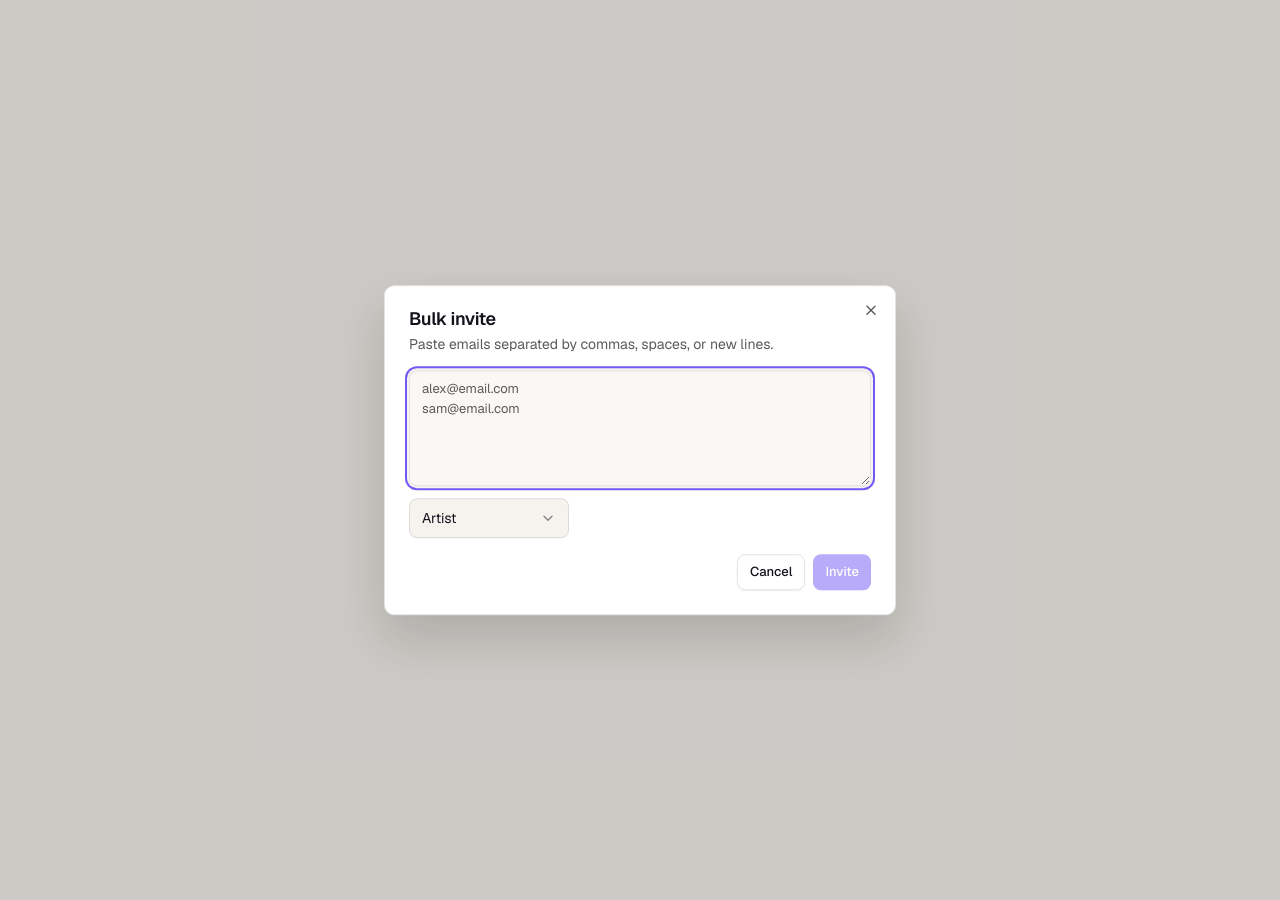
BulkInviteDialog › classifies pasted addresses as member, pending, invalid, or sendable
The width and height of the screenshot is (1280, 900).
Type "bob@x.com, kim@x.com, new@x.com, nope" into the text box at (640,428), box top-left (409, 370), bottom-right (871, 486)
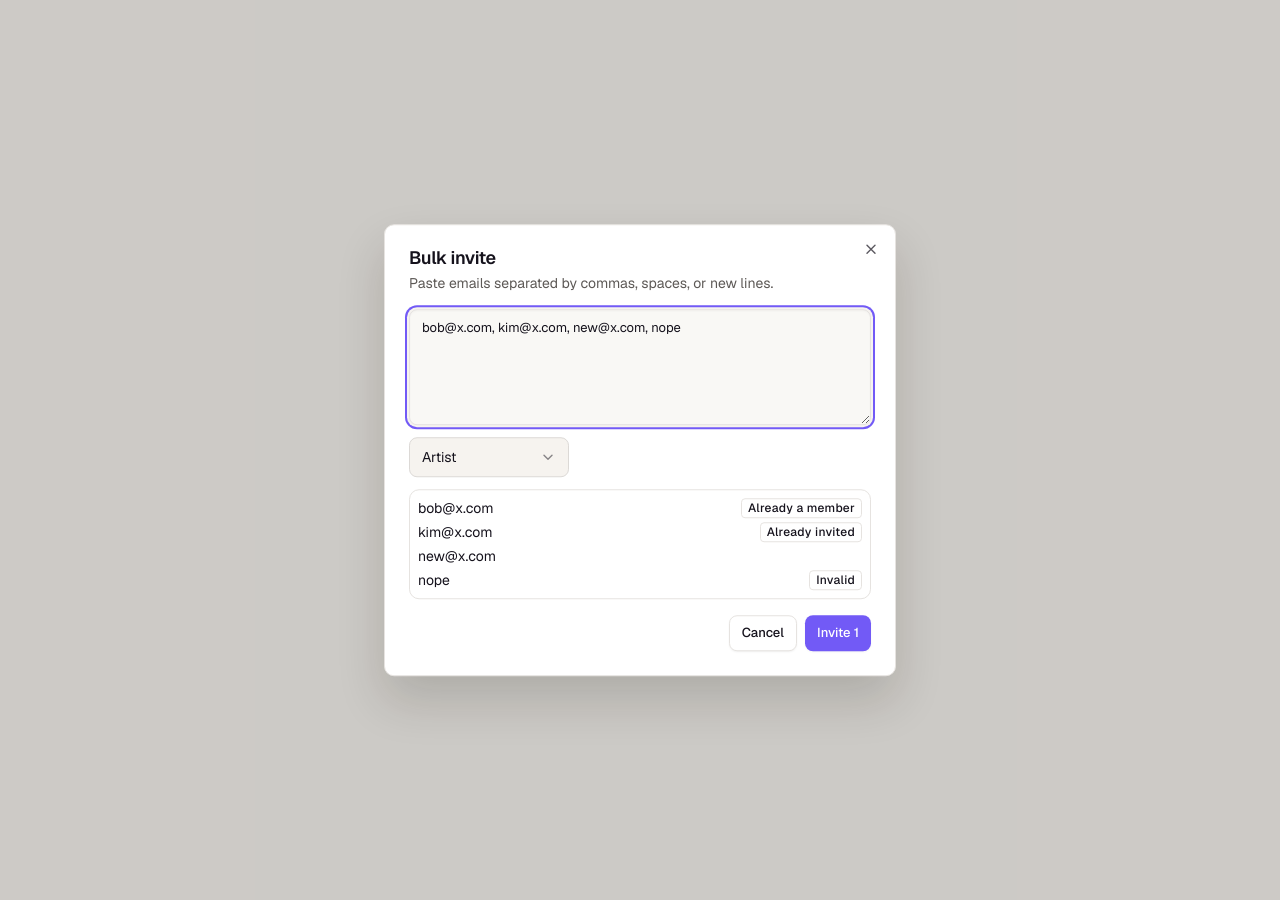
expect the text "Already a member" is shown: met, box top-left (741, 498), bottom-right (862, 518)
expect the text "Already invited" is shown: met, box top-left (760, 522), bottom-right (862, 542)
expect the text "Invalid" is shown: met, box top-left (809, 570), bottom-right (862, 590)
